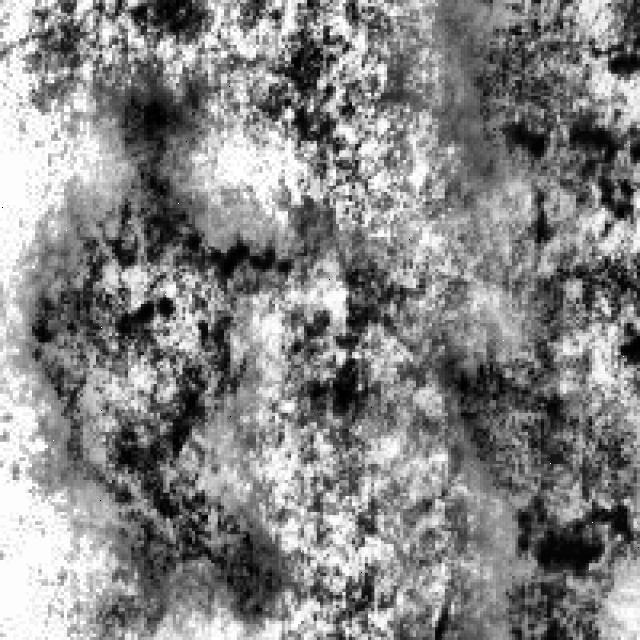Scratches: (22, 83, 285, 614), (428, 250, 634, 620), (452, 0, 630, 234)
